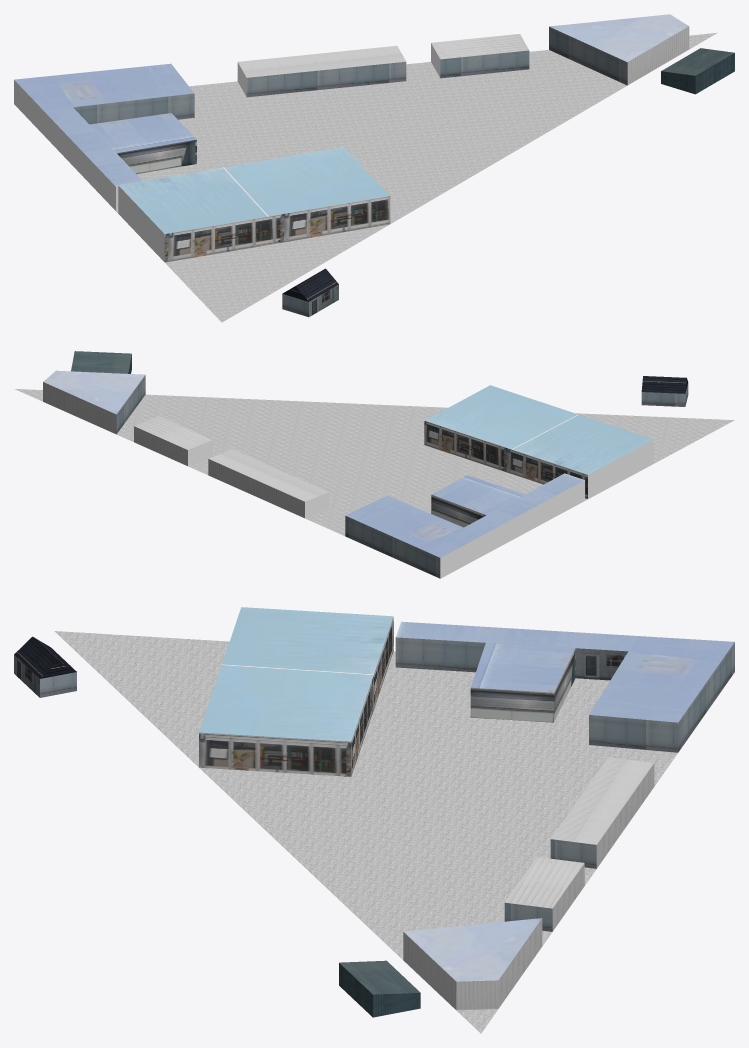
File: Lecu_raceterraza.gltf
3 renders of one model, top to bottom at view 1: azimuth 30°, elevation 25°; view 2: azimuth 150°, elevation 25°; view 3: azimuth 270°, elevation 25°, orthographic. The views are drawn at different scales.
Visible parts, largest first — view 1: race_terraza; view 2: race_terraza; view 3: race_terraza.
Boxes of the visible parts, x1,y1,x2,y2 form: race_terraza: (14, 14, 734, 322); race_terraza: (15, 351, 734, 578); race_terraza: (14, 607, 734, 1033).
Bounding box in the file's own units: 63.94 × 2.6 × 48.36.
